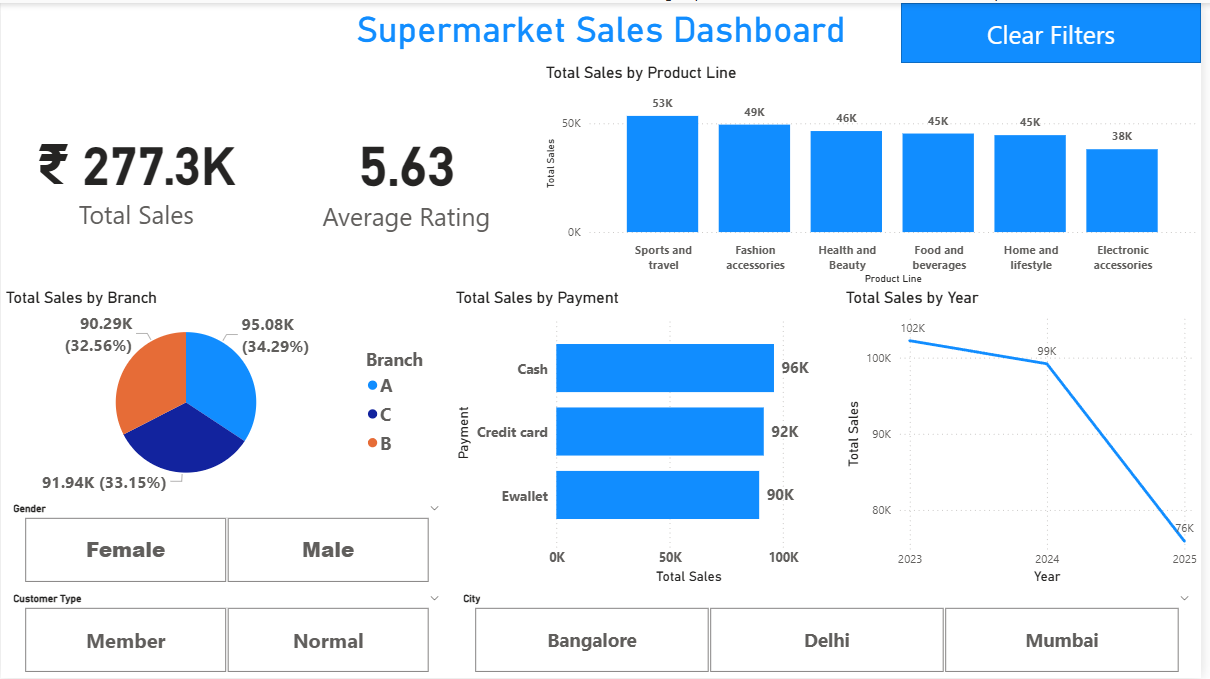

Layout of this report page (visuals, bound fields, positions):
{"tool":"powerbi","page":{"name":"Page 1","canvas":[1280,720],"ordinal":0},"visuals":[{"type":"card","fields":{"Values":["Supermarket_Sales_Data.Total Sales"]},"box":[0,64,288,240],"z":0},{"type":"card","fields":{"Values":["Supermarket_Sales_Data.Average Rating"]},"box":[288,64,288,240],"z":1000},{"type":"columnChart","fields":{"Category":["Supermarket_Sales_Data.Product Line"],"Y":["Supermarket_Sales_Data.Total Sales"]},"box":[576,64,704,240],"z":2000},{"type":"pieChart","fields":{"Category":["Supermarket_Sales_Data.Branch"],"Y":["Supermarket_Sales_Data.Total Sales"]},"box":[0,304,480,224],"z":3000},{"type":"lineChart","fields":{"Category":["Supermarket_Sales_Data.Date.Variation.Date Hierarchy.Year","Supermarket_Sales_Data.Date.Variation.Date Hierarchy.Quarter","Supermarket_Sales_Data.Date.Variation.Date Hierarchy.Month","Supermarket_Sales_Data.Date.Variation.Date Hierarchy.Day"],"Y":["Supermarket_Sales_Data.Total Sales"]},"box":[896,304,384,320],"z":4000},{"type":"barChart","fields":{"Category":["Supermarket_Sales_Data.Payment"],"Y":["Supermarket_Sales_Data.Total Sales"]},"box":[480,304,416,320],"z":5000},{"type":"slicer","fields":{"Values":["Supermarket_Sales_Data.City"]},"box":[480,624,800,96],"z":5001},{"type":"slicer","fields":{"Values":["Supermarket_Sales_Data.Customer Type"]},"box":[0,624,480,96],"z":5002},{"type":"slicer","fields":{"Values":["Supermarket_Sales_Data.Gender"]},"box":[0,528,480,96],"z":5003},{"type":"textbox","box":[0,0,1280,64],"z":5004},{"type":"shape","box":[960,0,320,64],"z":5005}]}

Visuals, with their boxes in screenshot pixels (x1, y1, x2, y2), scaled from the page's 1280x720 canvas onto the 1210x679 screenshot:
card - Supermarket_Sales_Data.Total Sales: region(0, 60, 272, 287)
card - Supermarket_Sales_Data.Average Rating: region(272, 60, 544, 287)
columnChart - Supermarket_Sales_Data.Product Line x Supermarket_Sales_Data.Total Sales: region(544, 60, 1209, 287)
pieChart - Supermarket_Sales_Data.Branch x Supermarket_Sales_Data.Total Sales: region(0, 287, 454, 498)
lineChart - Supermarket_Sales_Data.Date.Variation.Date Hierarchy.Year x Supermarket_Sales_Data.Date.Variation.Date Hierarchy.Quarter: region(847, 287, 1209, 588)
barChart - Supermarket_Sales_Data.Payment x Supermarket_Sales_Data.Total Sales: region(454, 287, 847, 588)
slicer - Supermarket_Sales_Data.City: region(454, 588, 1209, 678)
slicer - Supermarket_Sales_Data.Customer Type: region(0, 588, 454, 678)
slicer - Supermarket_Sales_Data.Gender: region(0, 498, 454, 588)
textbox: region(0, 0, 1209, 60)
shape: region(908, 0, 1209, 60)
